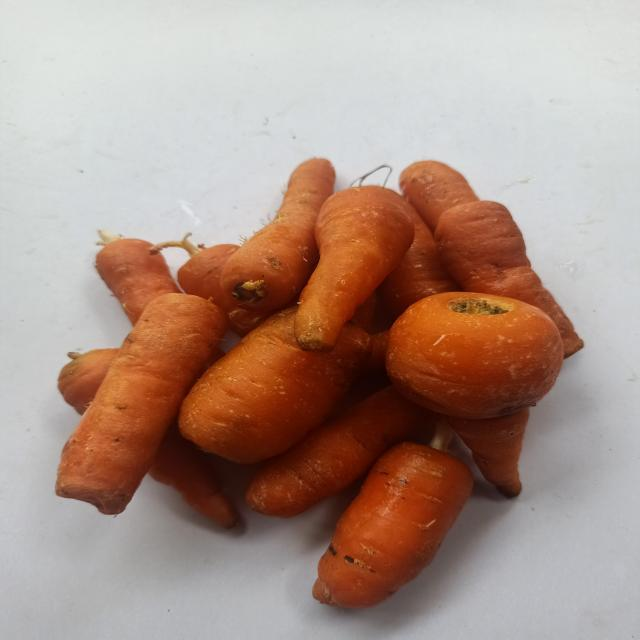Carrot: (54, 293, 227, 515), (178, 307, 372, 464), (313, 443, 473, 609), (434, 200, 583, 358), (294, 185, 415, 352), (219, 158, 335, 311)
